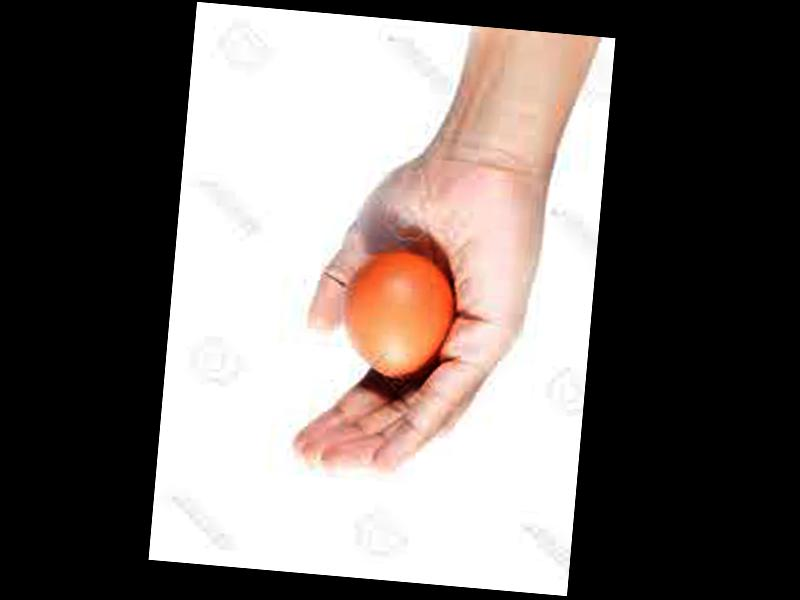Eggs: (340, 247, 456, 380)
